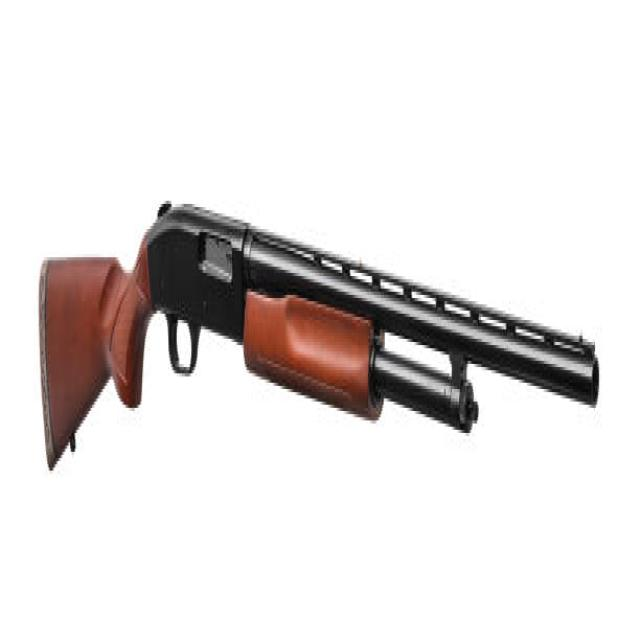rifle: (33, 181, 607, 482)
